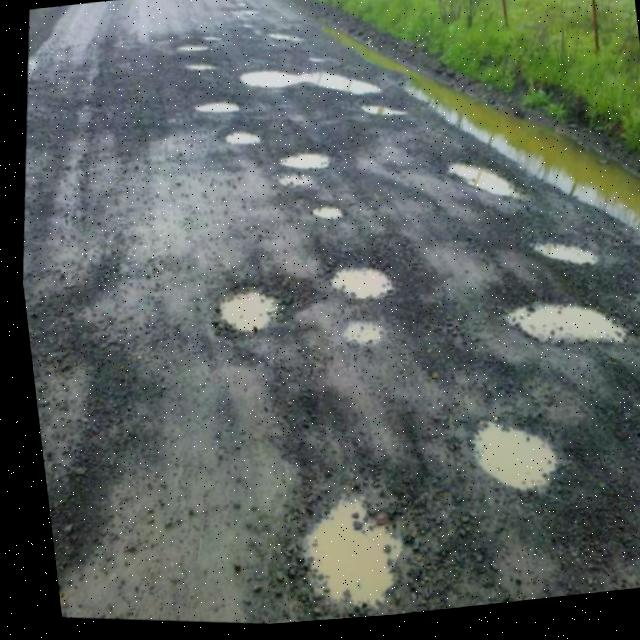Pothole: (268, 473, 412, 626), (456, 410, 559, 513), (499, 296, 625, 365), (432, 155, 524, 217), (203, 278, 281, 346), (303, 59, 385, 110), (321, 261, 389, 309), (523, 239, 595, 281), (235, 61, 307, 103), (334, 313, 380, 357), (273, 147, 330, 180), (355, 99, 404, 125), (217, 127, 261, 155), (192, 97, 239, 122), (271, 169, 308, 196), (262, 26, 302, 49), (308, 205, 340, 227), (172, 41, 209, 56), (179, 61, 214, 76), (197, 26, 221, 47), (634, 436, 640, 486), (306, 58, 326, 71)
